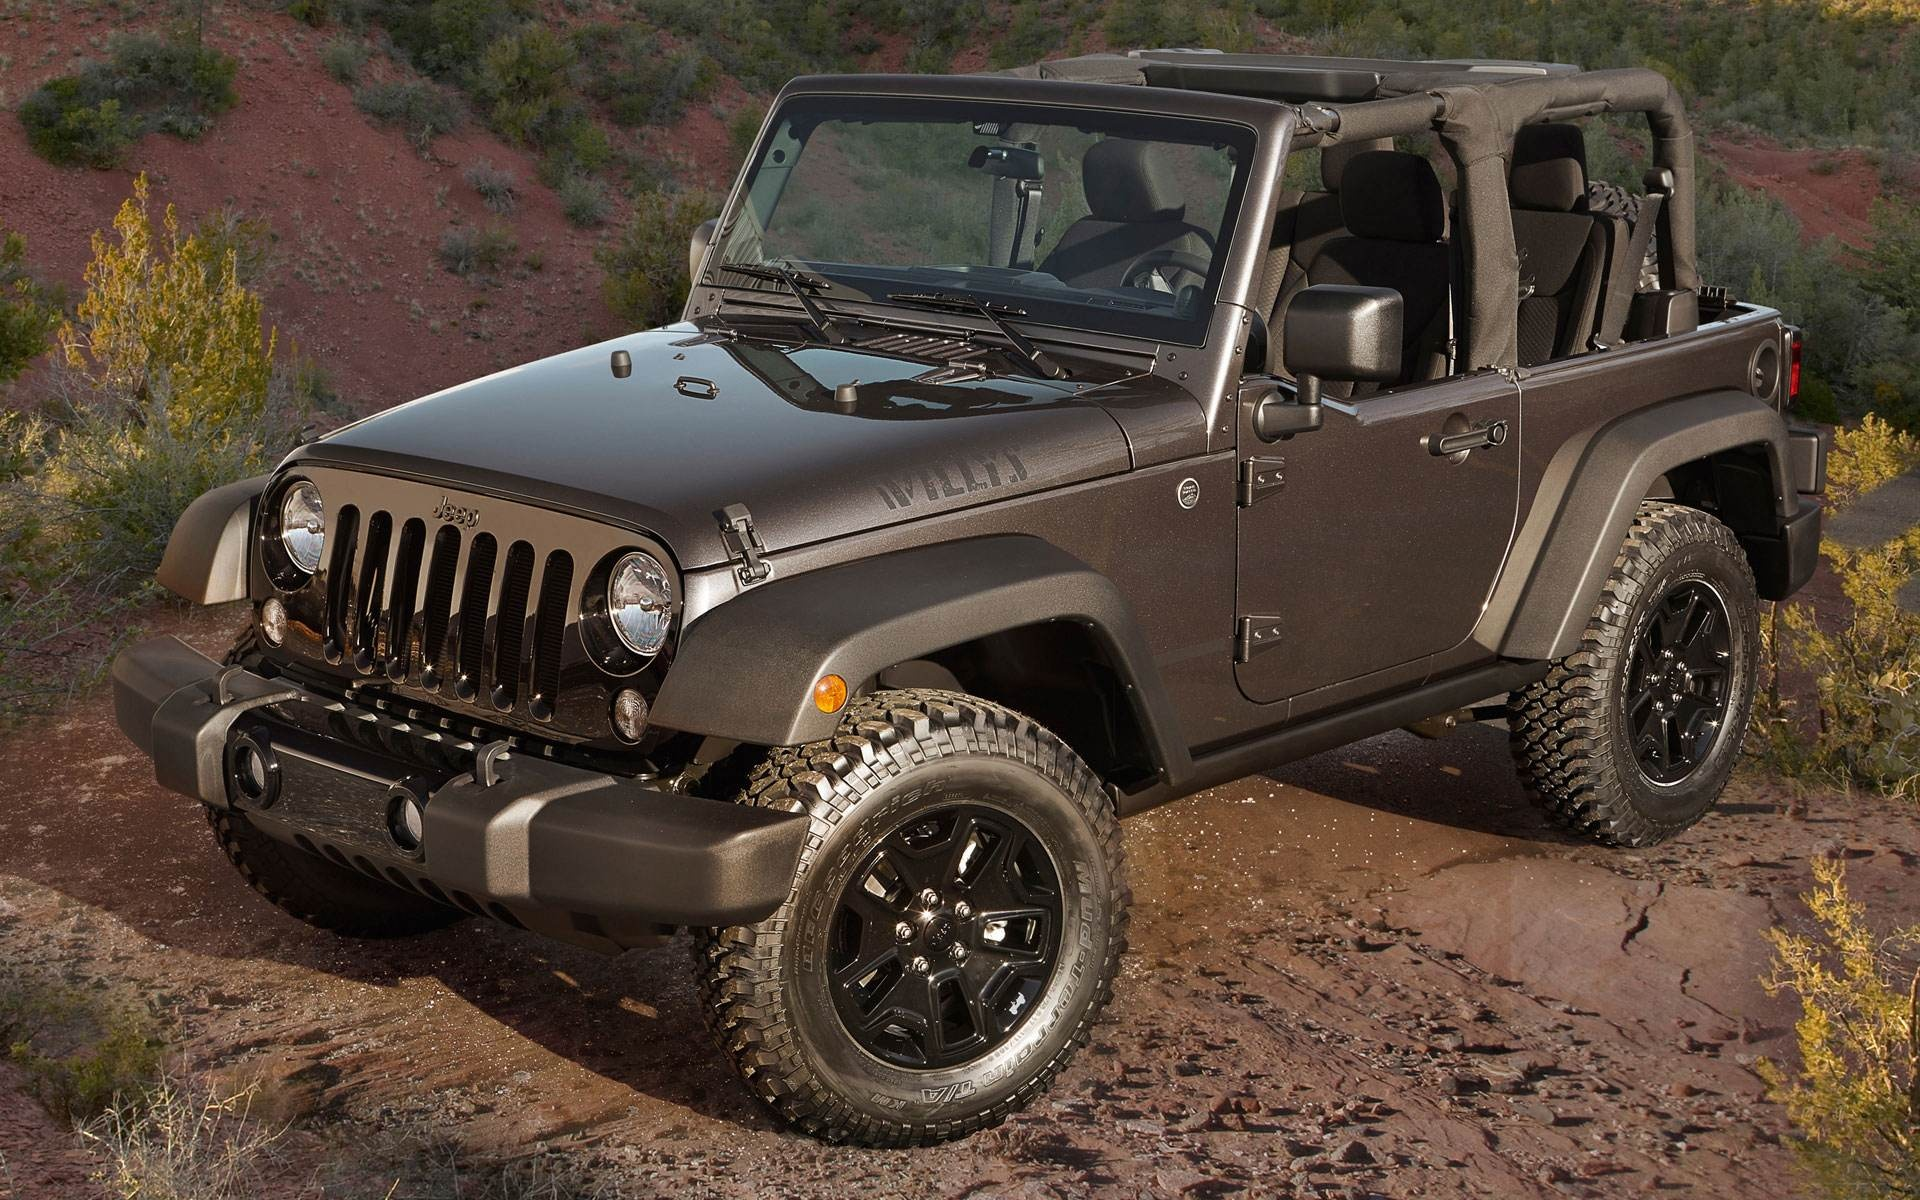jeep: (187, 109, 1838, 1098)
